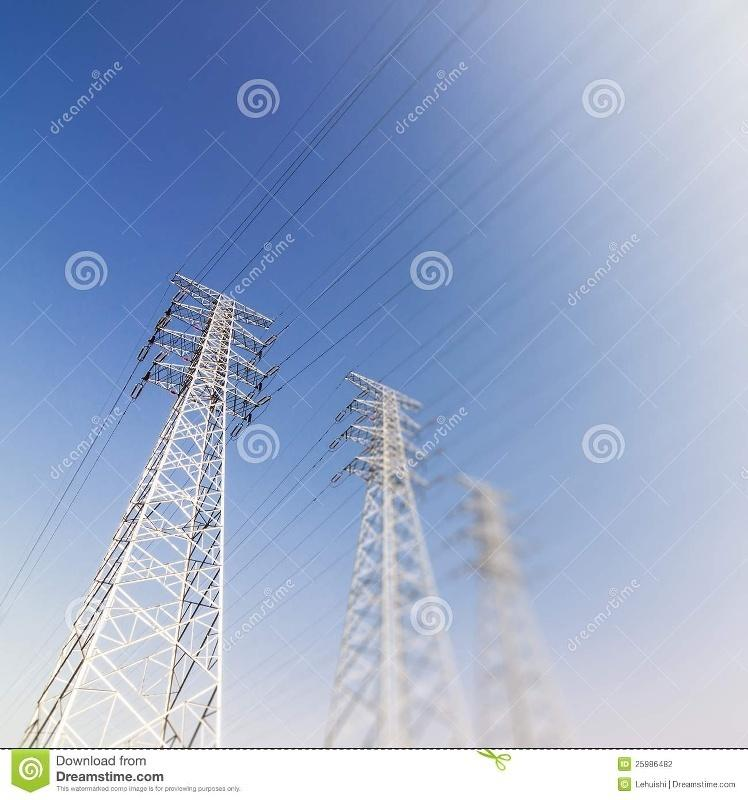power_tower: (39, 281, 261, 744)
